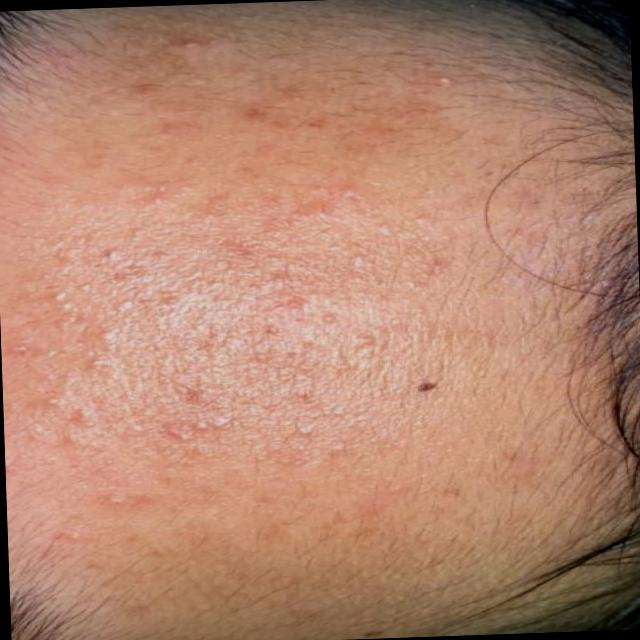fungal: (0, 198, 480, 535)
